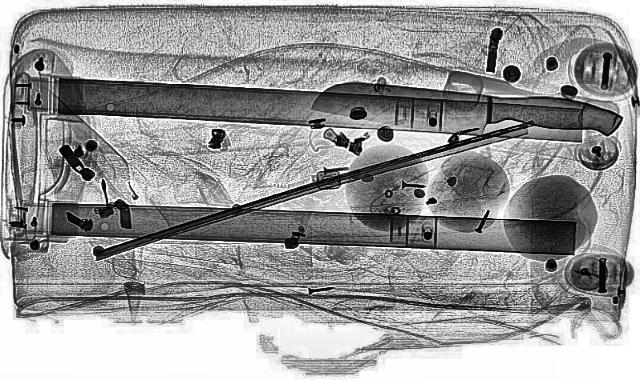Knife: (305, 79, 625, 143)
